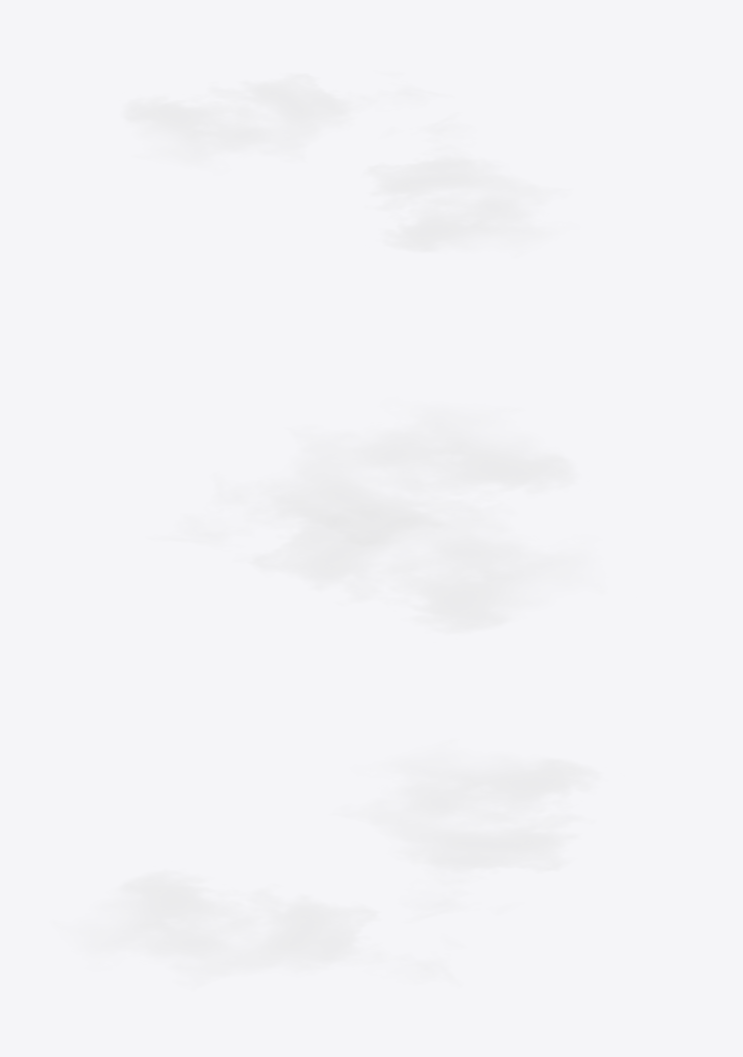
File: cloud1.glb
The picture shows the model from 3 angles, top to bottom: view 1: azimuth 30°, elevation 25°; view 2: azimuth 150°, elevation 25°; view 3: azimuth 270°, elevation 25°; orthographic projection. The views are drawn at different scales.
Parts seen in each view (by area): view 1: cloud_02_cloud_00_0, cloud_01_cloud_00_0; view 2: cloud_02_cloud_00_0, cloud_01_cloud_00_0; view 3: cloud_01_cloud_00_0, cloud_02_cloud_00_0.
Part boxes in pixels (box(x1,y1,x2,y2)): cloud_02_cloud_00_0: box(123, 74, 436, 163); cloud_01_cloud_00_0: box(365, 119, 556, 252); cloud_02_cloud_00_0: box(217, 483, 585, 633); cloud_01_cloud_00_0: box(172, 408, 575, 543); cloud_01_cloud_00_0: box(80, 870, 451, 982); cloud_02_cloud_00_0: box(351, 753, 599, 916).
Size of the model in its own units: 297 by 22.7 by 310.
1 material, 1 textured.
